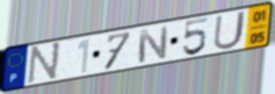1: (77, 38, 91, 75)
5: (181, 15, 210, 58)
7: (103, 30, 133, 71)
N: (25, 40, 63, 86), (137, 25, 170, 65)
U: (212, 9, 248, 51)
